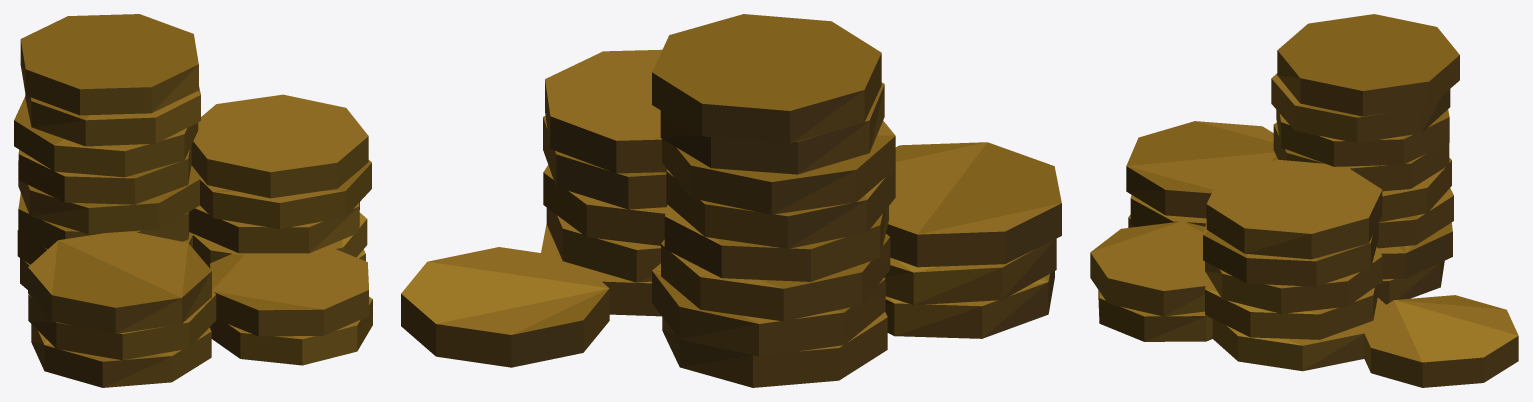
Rendered from coin_stack_medium.gltf.
3 renders of one model, left to right at view 1: azimuth 30°, elevation 25°; view 2: azimuth 150°, elevation 25°; view 3: azimuth 270°, elevation 25°, orthographic. The views are drawn at different scales.
Parts seen in each view (by area): view 1: coin_stack_medium; view 2: coin_stack_medium; view 3: coin_stack_medium.
Part boxes in pixels (x1,y1,x2,y2): coin_stack_medium: [14, 14, 372, 387]; coin_stack_medium: [401, 14, 1061, 387]; coin_stack_medium: [1090, 14, 1518, 387].
Bounding box in the file's own units: 1.08 × 0.594 × 1.05.
Materials: 1 (1 with a texture image).
